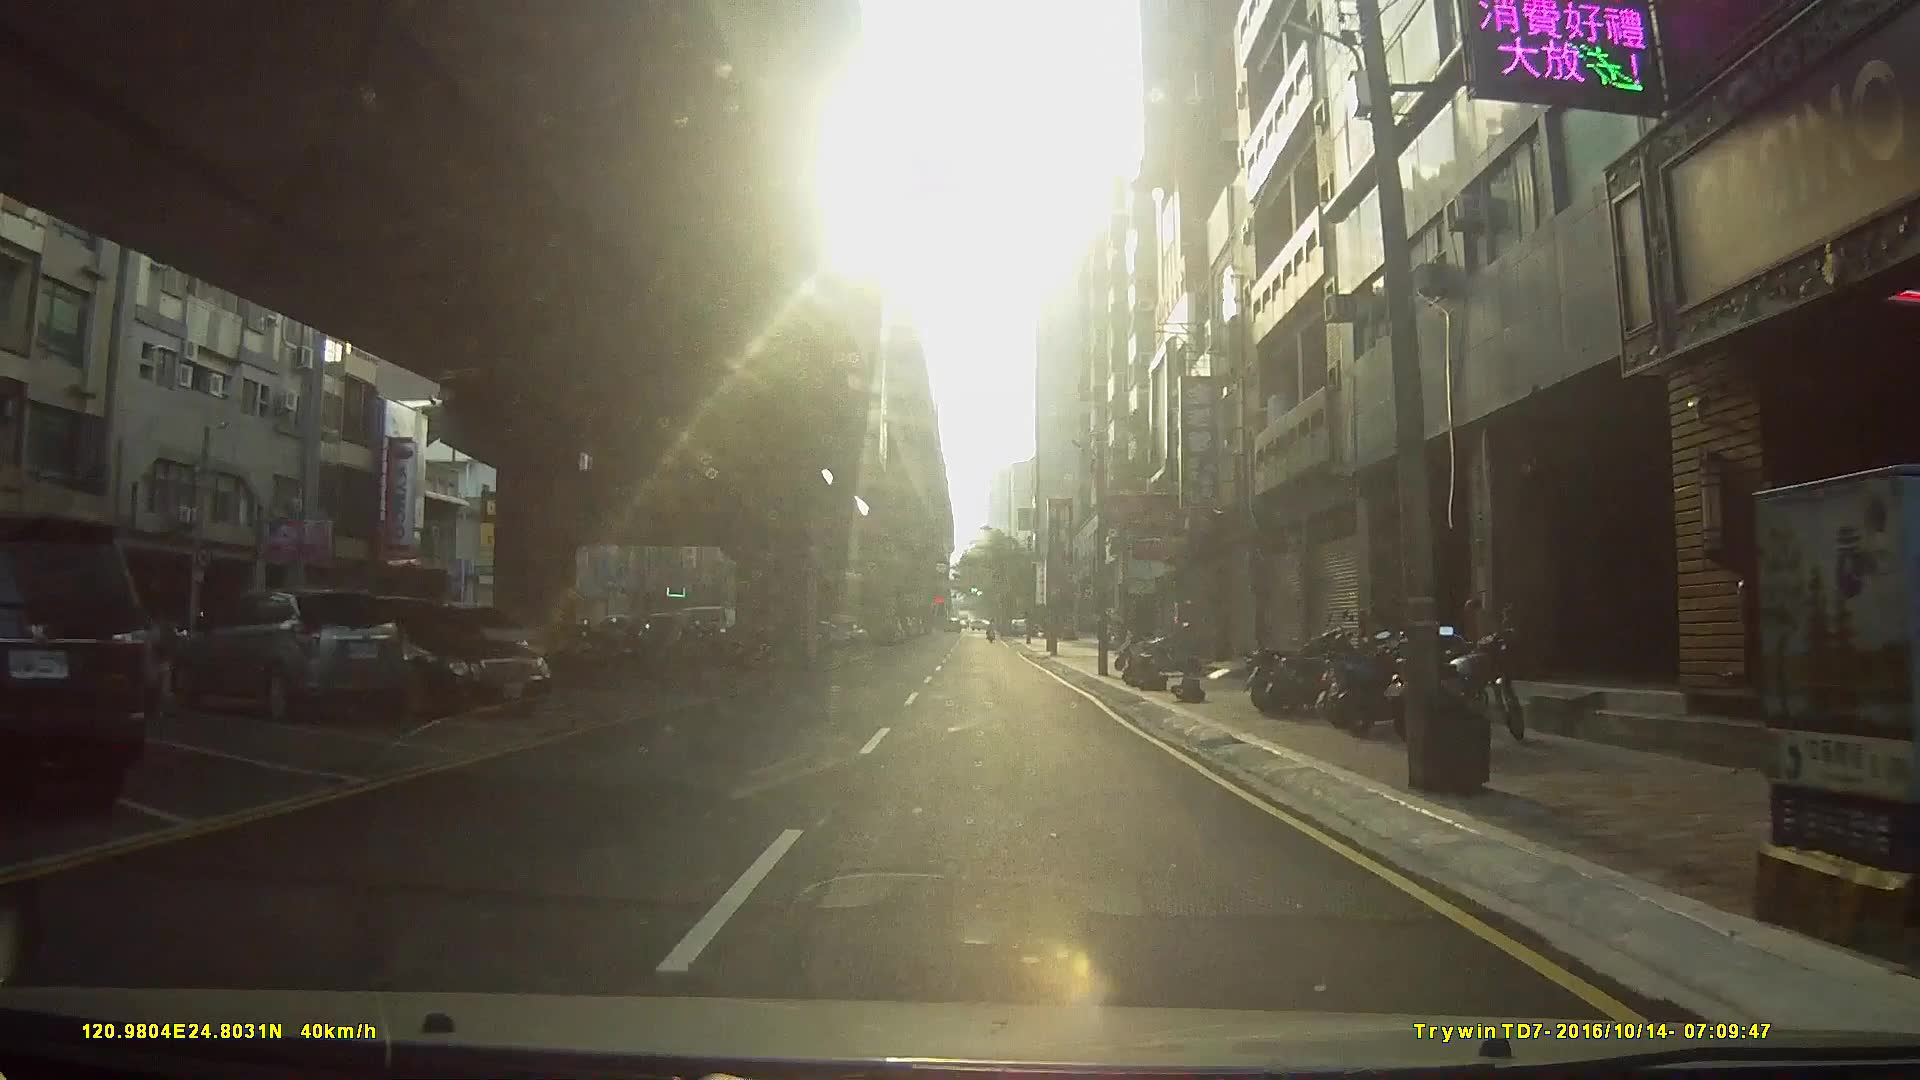vehicle: (0, 513, 150, 818), (166, 585, 409, 724), (295, 603, 549, 721)
